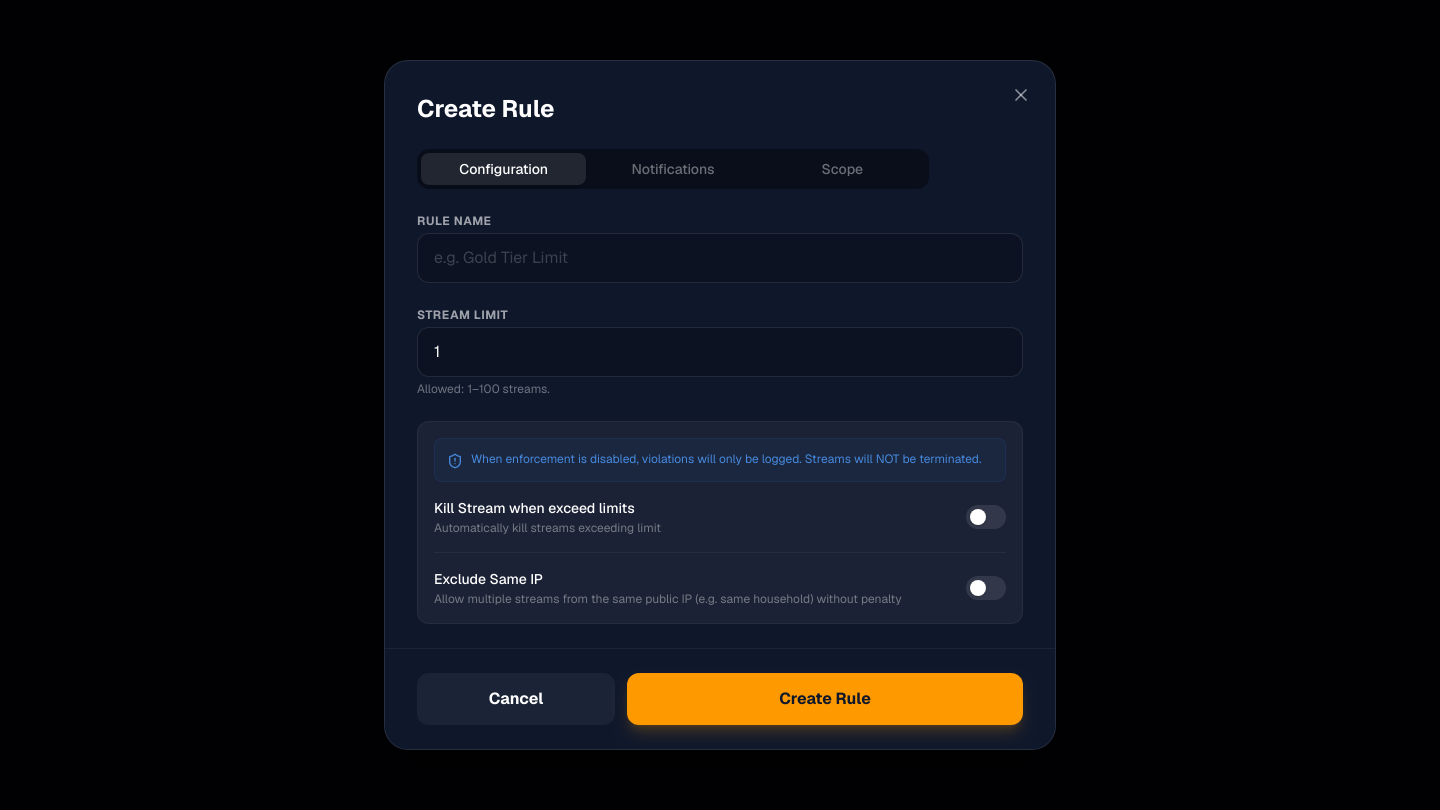
Test: RuleModal validation › jumps back to Configuration and flags an empty name instead of silently doing nothing
This screenshot has width=1440, height=810.
Step 1. Click the tab "Notifications" → x=673, y=169, box [590,153,756,185]
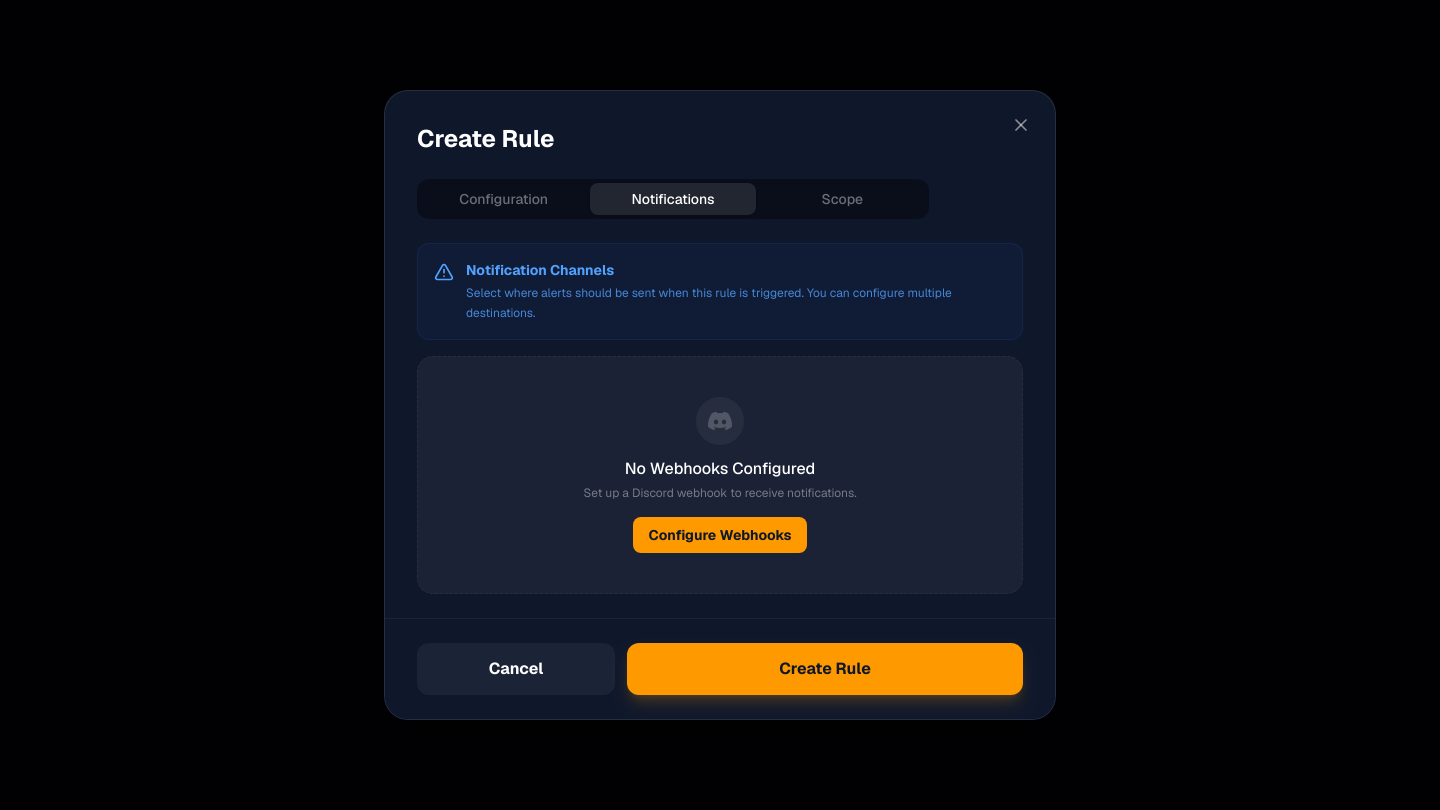
Step 2. Click the button "Create Rule" → x=825, y=669, box [627,643,1023,695]
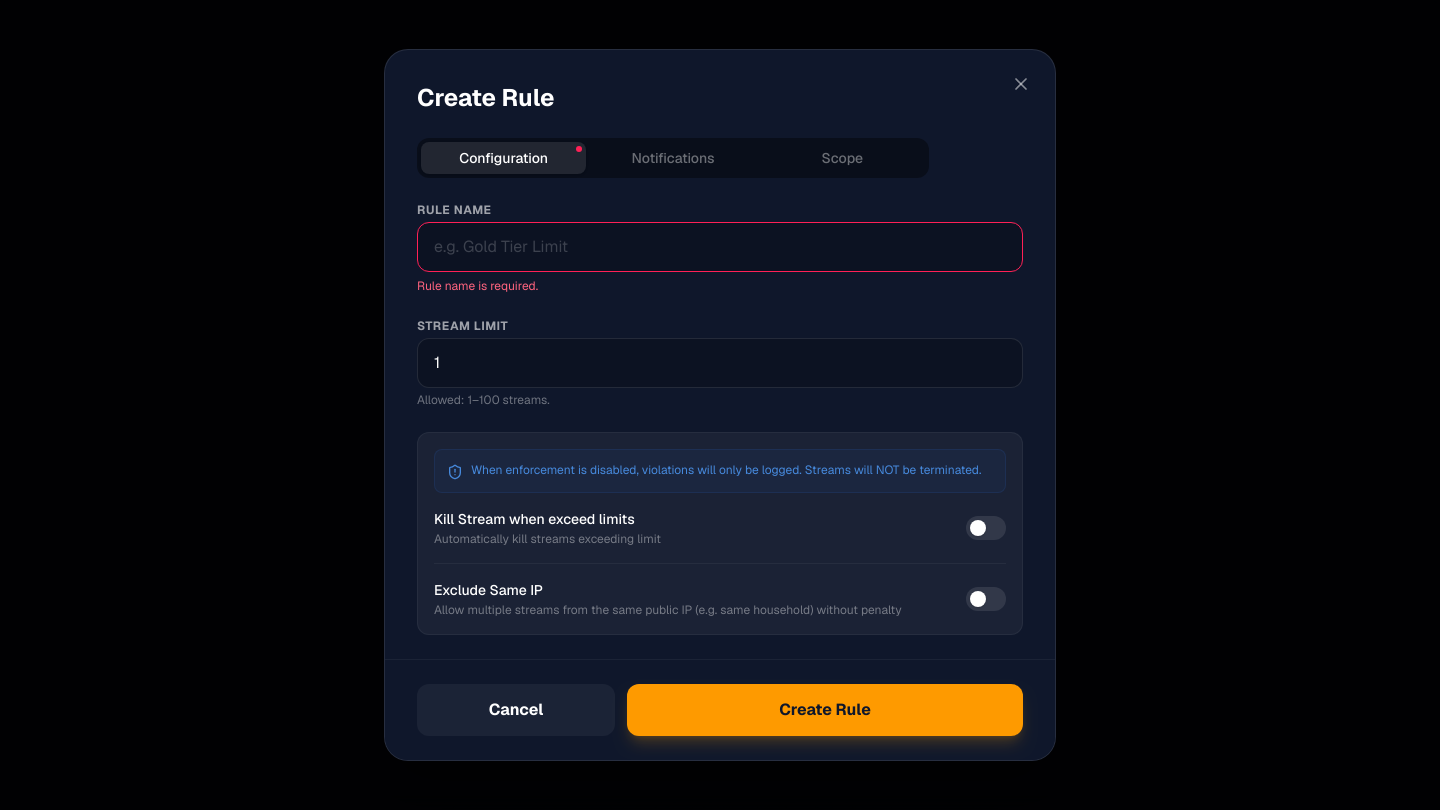
Check: the text "Rule name is required." is shown, box [417,278,538,294]
